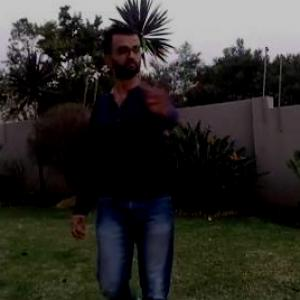takeoff-hand: (134, 70, 175, 118)
